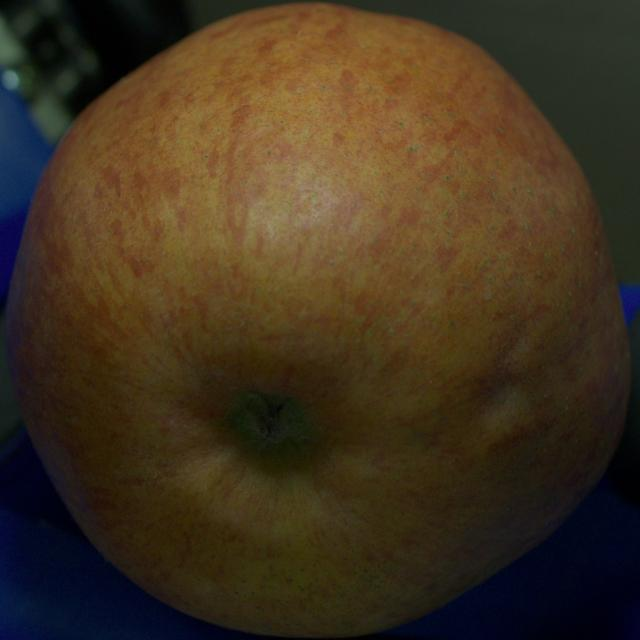apple: (6, 4, 630, 637)
